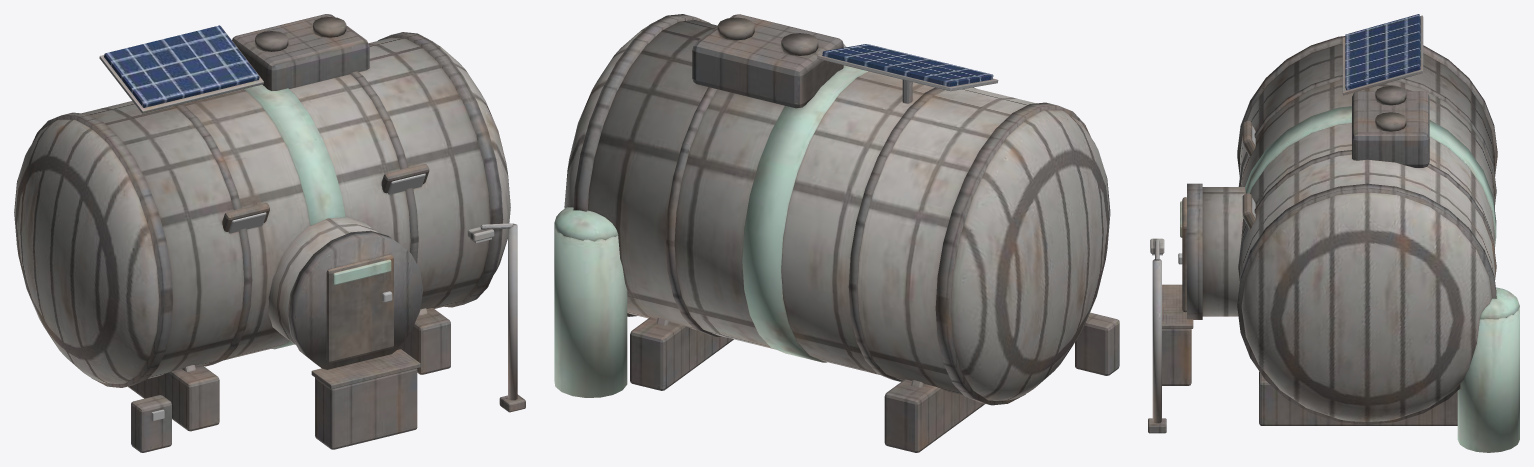
File: house_4.glb
3 views of the same model, side by side, from view 1: azimuth 30°, elevation 25°; view 2: azimuth 150°, elevation 25°; view 3: azimuth 270°, elevation 25° (orthographic). The views are drawn at different scales.
Parts seen in each view (by area): view 1: house_4, Glow; view 2: house_4; view 3: house_4.
Part boxes in pixels (bbox=[...]): house_4: bbox=[14, 14, 525, 452]; Glow: bbox=[151, 173, 491, 420]; house_4: bbox=[554, 14, 1119, 452]; house_4: bbox=[1148, 14, 1519, 452].
Bounding box in the file's own units: 2.92 × 2.1 × 2.39.
3 materials, 1 textured.
